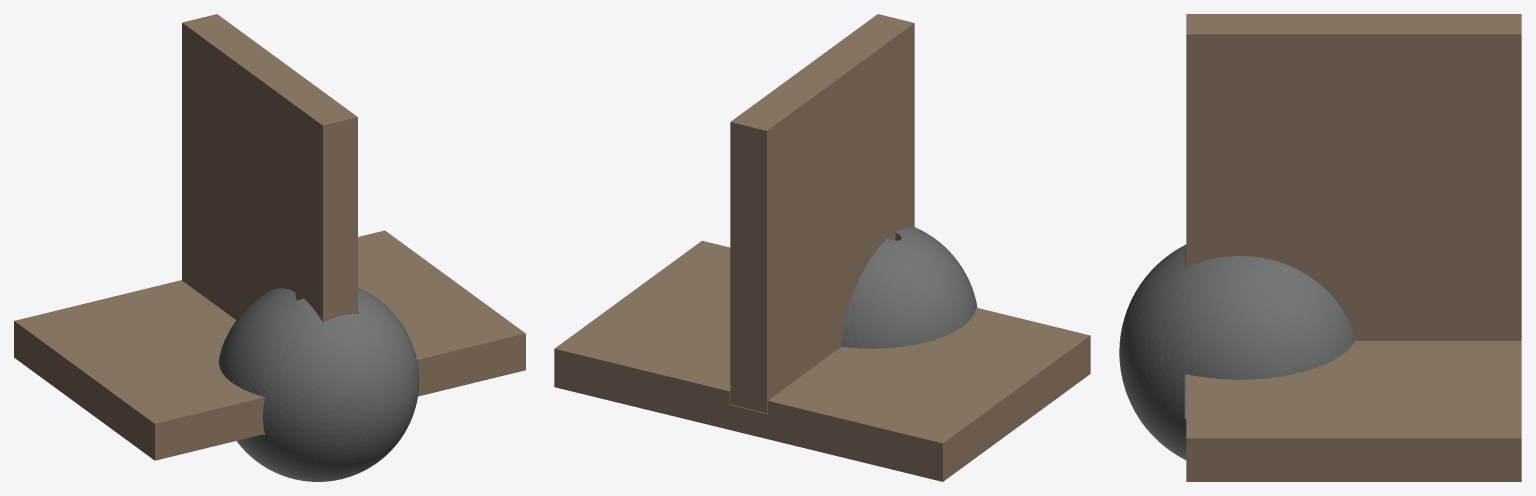
File: assembled.glb
3 renders of one model, left to right at view 1: azimuth 30°, elevation 25°; view 2: azimuth 150°, elevation 25°; view 3: azimuth 270°, elevation 25°, orthographic. The views are drawn at different scales.
Visible parts, largest first — view 1: divider, shelf, body; view 2: shelf, divider, body; view 3: divider, shelf, body.
Boxes of the visible parts, <box> form: divider: <box>182,14,357,322</box>; shelf: <box>14,230,525,460</box>; body: <box>218,287,419,481</box>; shelf: <box>554,240,1090,481</box>; divider: <box>730,14,914,413</box>; body: <box>841,227,977,348</box>; divider: <box>1186,14,1521,340</box>; shelf: <box>1186,341,1521,481</box>; body: <box>1119,244,1355,459</box>.
Size of the model in its own units: 0.19 by 0.18 by 0.15.
